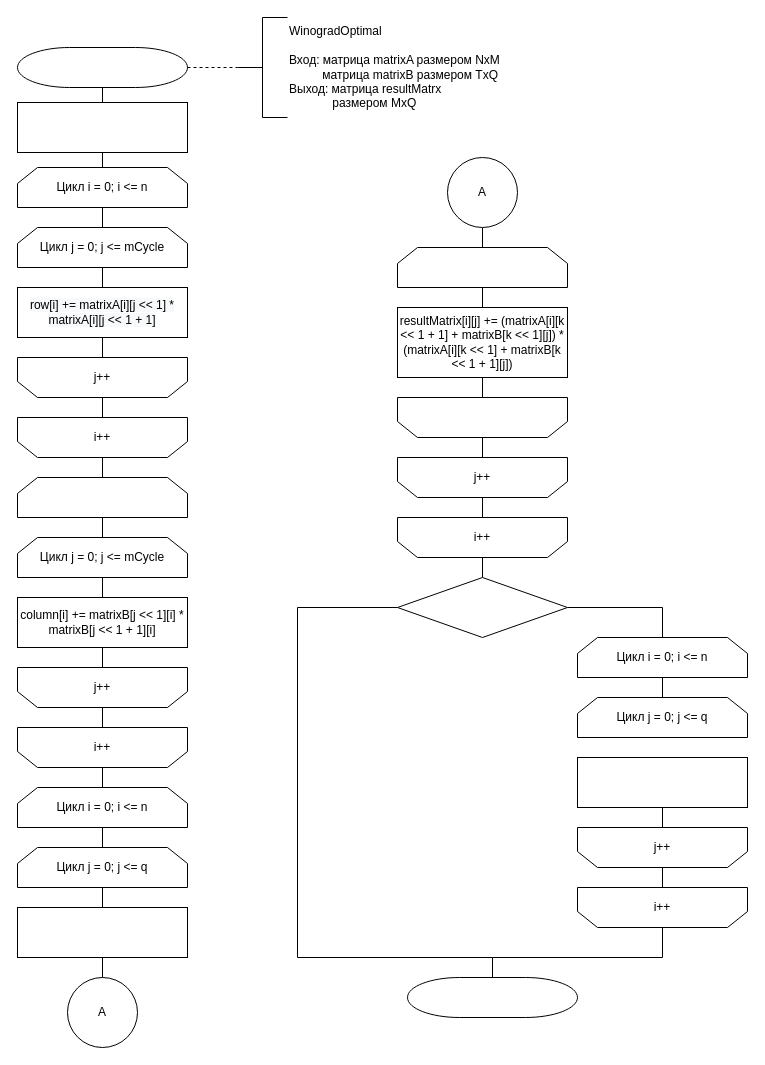
Some shapes in this 765 by 1065 pixel diagram are drawn without their labels. Here are the shapes that lost their labels. From the top down, the centre of each, then its label:
(102,67): Начало
(102,127): mCycle = m >> 1
(482,267): Цикл k = 0; k <= mCycle
(482,417): k++
(102,497): Цикл i = 0; i <= q
(482,607): m % 2 == 1
(662,782): resultMatrix [i][j] += matrixA[i][m - 1 ] * matrixB[m - 1 ][j]
(102,932): resultMatrix[i][j] -= (row[i] + column[j])
(492,997): Конец
